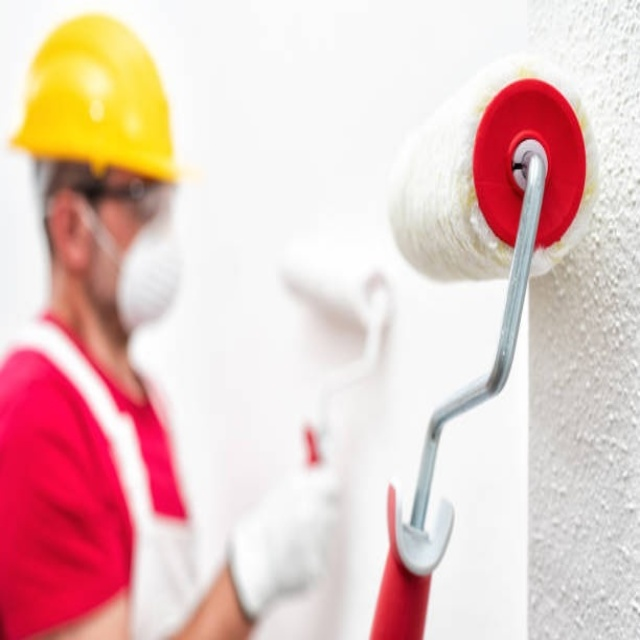Gafas: (58, 173, 169, 215)
Guantes: (227, 457, 340, 624)
Mascara: (110, 195, 183, 331)
